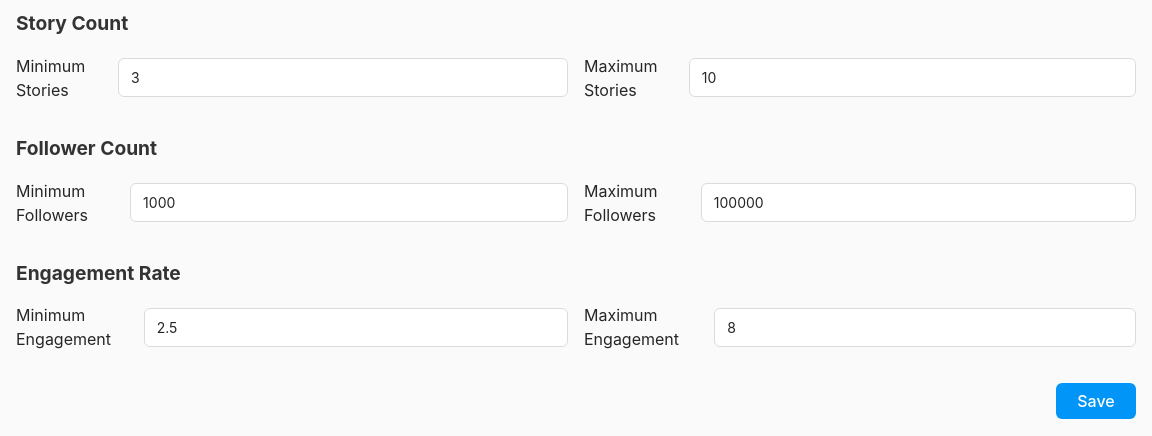
Scenario: StoryTargets Component › Target Updates › validates min/max relationships
Replace the text in the number field labelled "Maximum Stories" with "2": (912, 78) [689,58,1136,97]
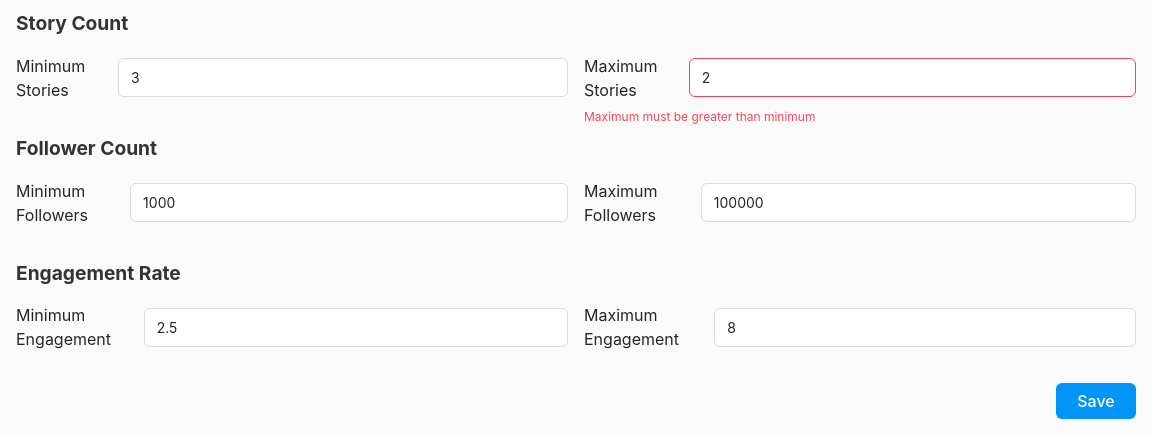
Result: the text "Maximum must be greater than minimum" is shown at [584,109,816,124]
